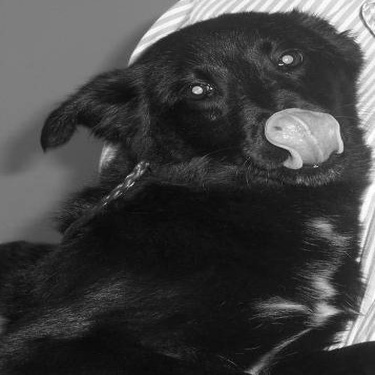dog: (1, 5, 372, 372)
